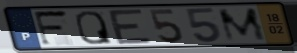5: (183, 6, 224, 44), (147, 7, 185, 45)
E: (106, 7, 155, 46)
F: (31, 9, 71, 48)
M: (216, 7, 269, 43)
Q: (73, 9, 114, 45)
